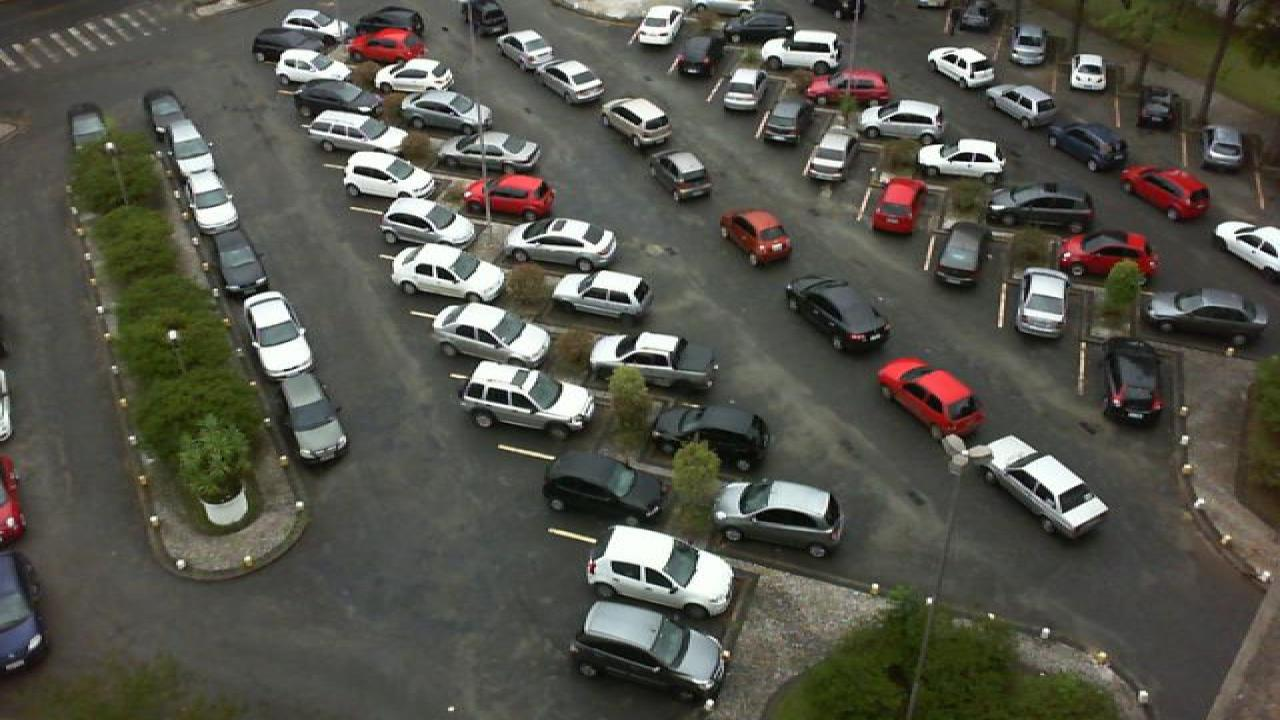Car: (566, 597, 728, 703), (964, 433, 1112, 538), (582, 522, 738, 619), (708, 479, 846, 559), (458, 360, 596, 439), (646, 398, 776, 474), (874, 356, 988, 439), (538, 450, 666, 522), (782, 273, 894, 351), (586, 330, 720, 393), (266, 369, 350, 466), (428, 302, 554, 366), (1142, 286, 1270, 348), (386, 243, 508, 307), (240, 289, 316, 378), (504, 216, 620, 274), (338, 147, 438, 206), (376, 196, 482, 251), (1100, 335, 1164, 424), (1054, 231, 1160, 284), (550, 269, 654, 323), (986, 181, 1094, 232), (1118, 162, 1214, 219), (302, 108, 412, 154), (1010, 267, 1076, 343), (716, 208, 796, 268), (438, 130, 540, 176), (464, 173, 556, 222), (596, 94, 676, 150), (398, 89, 494, 135), (1046, 122, 1130, 173), (914, 138, 1004, 184), (856, 98, 944, 144), (1208, 220, 1280, 276), (208, 228, 272, 290), (932, 220, 990, 288), (290, 79, 384, 119), (248, 25, 342, 65), (982, 82, 1060, 130), (758, 29, 842, 73), (270, 48, 360, 88), (538, 57, 608, 108), (648, 150, 714, 204), (870, 177, 930, 236), (802, 68, 892, 105), (926, 45, 1000, 89), (144, 88, 200, 146), (798, 126, 852, 184), (386, 55, 460, 97), (344, 27, 428, 64), (1194, 122, 1252, 174), (494, 28, 558, 73), (168, 146, 220, 196), (720, 7, 796, 40), (630, 4, 684, 50), (354, 4, 428, 36), (280, 8, 352, 40), (718, 68, 768, 114), (756, 97, 802, 146), (190, 188, 240, 233), (66, 102, 114, 146), (458, 0, 510, 40), (674, 33, 720, 78), (1006, 22, 1050, 66), (1066, 53, 1112, 93), (948, 0, 998, 35)
